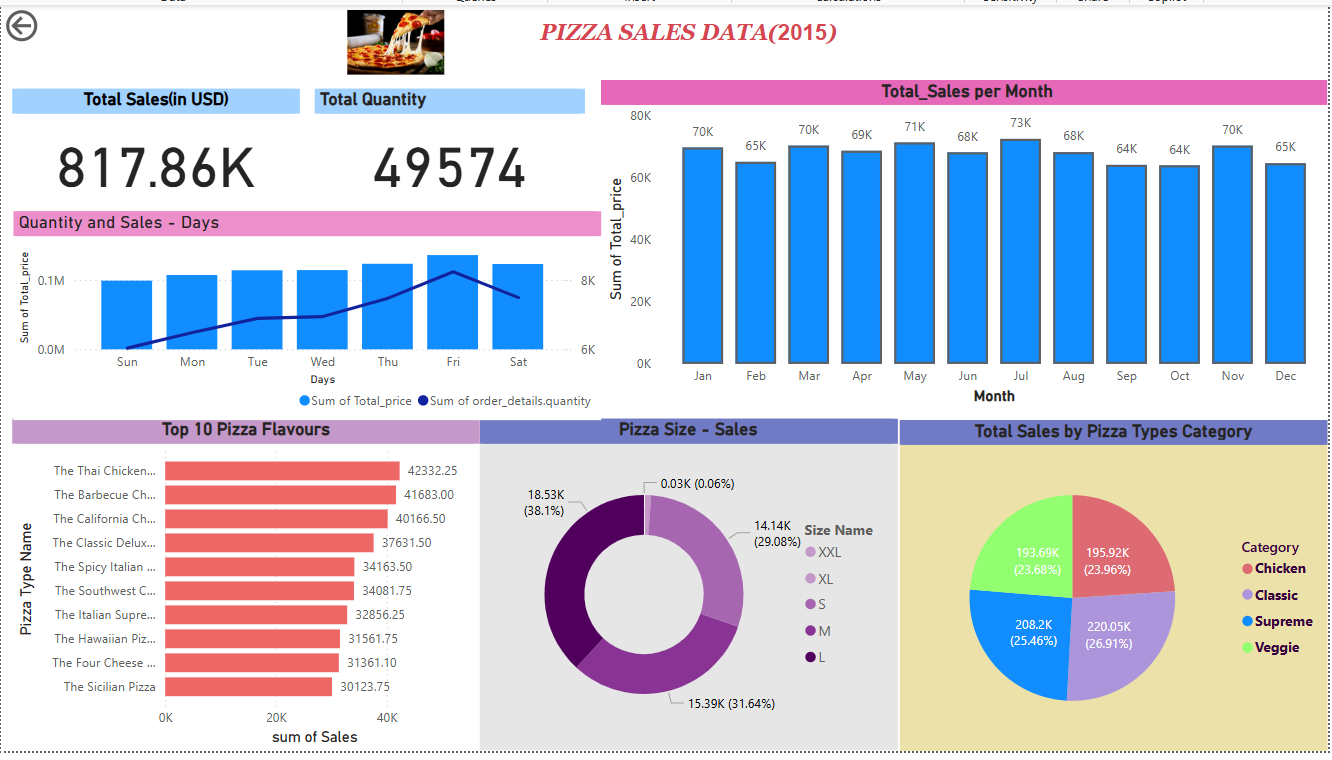

The dashboard page shown, as its layout file describes it:
{"tool":"powerbi","page":{"name":"Page 1","canvas":[1280,720],"ordinal":0},"visuals":[{"type":"pieChart","title":"Total Sales by Pizza Types Category","fields":{"Y":["Sum(pizza_details.Total_price)"],"Series":["pizza_details.pizza_types_category"]},"box":[867.5,400,412.7,319.7],"z":0},{"type":"card","title":"Total Sales(in USD)","fields":{"Values":["Sum(pizza_details.Total_price)"]},"box":[11,80.7,277.6,118.6],"z":1000},{"type":"lineClusteredColumnComboChart","title":"Total_Sales per Month","fields":{"Category":["pizza_details.month_name"],"Y":["Sum(pizza_details.Total_price)"]},"box":[578.5,54.7,701.7,344.6],"z":2000},{"type":"donutChart","title":"Pizza Size - Sales","fields":{"Category":["pizza_details.pizzas.size"],"Y":["CountNonNull(pizza_details.pizza_types_pizza_type_id)"]},"box":[461,399.9,404.8,320.4],"z":2001},{"type":"image","box":[267.8,0,226.2,72.1],"z":2003},{"type":"textbox","box":[478.1,9.8,371.7,35.5],"z":2004},{"type":"barChart","title":"Top 10 Pizza Flavours","fields":{"Category":["pizza_details.pizza_types_name"],"Y":["Sum(pizza_details.pizzas.price)"]},"box":[11,399.9,451.2,320.4],"z":2005},{"type":"card","title":"Total Quantity","fields":{"Values":["Sum(pizza_details.order_details.quantity)"]},"box":[303.3,80.7,260.5,118.6],"z":2006},{"type":"actionButton","box":[0,0,100,40],"z":2007},{"type":"lineClusteredColumnComboChart","title":"Quantity and Sales - Days","fields":{"Category":["pizza_details.weekdays"],"Y":["Sum(pizza_details.Total_price)"],"Y2":["Sum(pizza_details.order_details.quantity)"]},"box":[11.5,198.7,566.9,201.3],"z":2008}]}

Visuals, with their boxes on the page's 1280x720 design canvas (x1, y1, x2, y2). These are canvas units, not pixel positions in the 1332x760 screenshot, which may show the page scaled, cropped or inside an application window:
"Total Sales by Pizza Types Category" pieChart: left=868, top=400, right=1280, bottom=720
"Total Sales(in USD)" card: left=11, top=81, right=289, bottom=199
"Total_Sales per Month" lineClusteredColumnComboChart: left=578, top=55, right=1280, bottom=399
"Pizza Size - Sales" donutChart: left=461, top=400, right=866, bottom=720
image: left=268, top=0, right=494, bottom=72
textbox: left=478, top=10, right=850, bottom=45
"Top 10 Pizza Flavours" barChart: left=11, top=400, right=462, bottom=720
"Total Quantity" card: left=303, top=81, right=564, bottom=199
actionButton: left=0, top=0, right=100, bottom=40
"Quantity and Sales - Days" lineClusteredColumnComboChart: left=12, top=199, right=578, bottom=400
